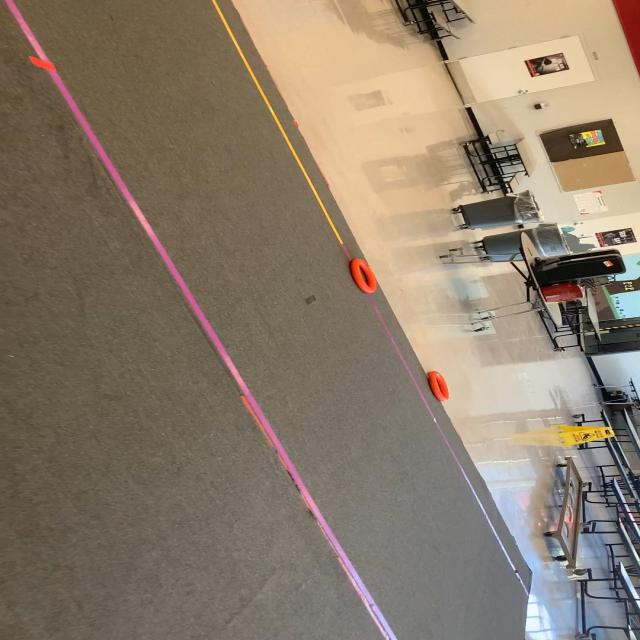notes: (416, 361, 459, 404), (344, 259, 384, 298)
